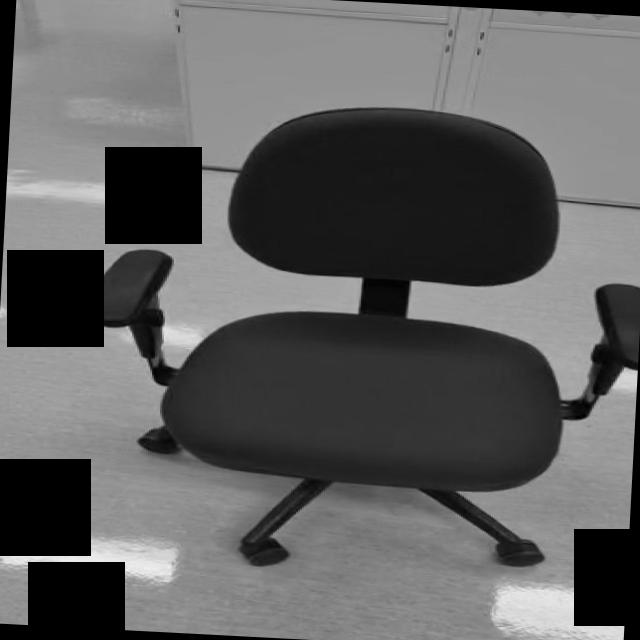cadeira-azul: (72, 92, 640, 584)
